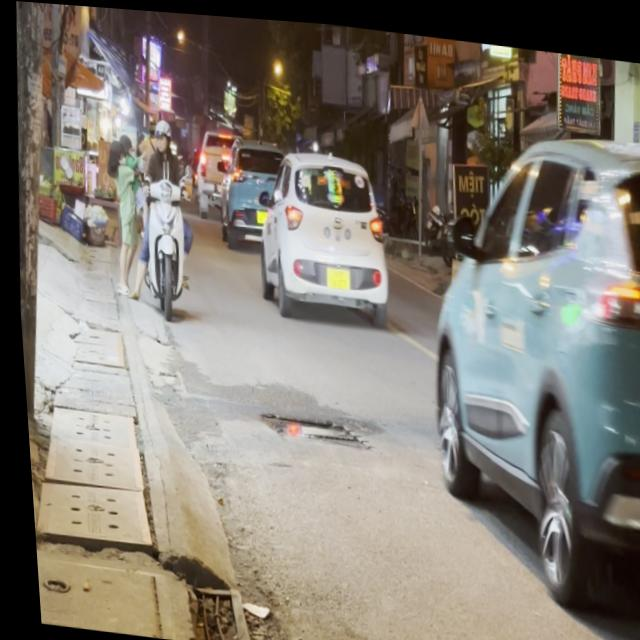helmet: (150, 115, 172, 151)
licenseplate: (124, 109, 202, 318)
